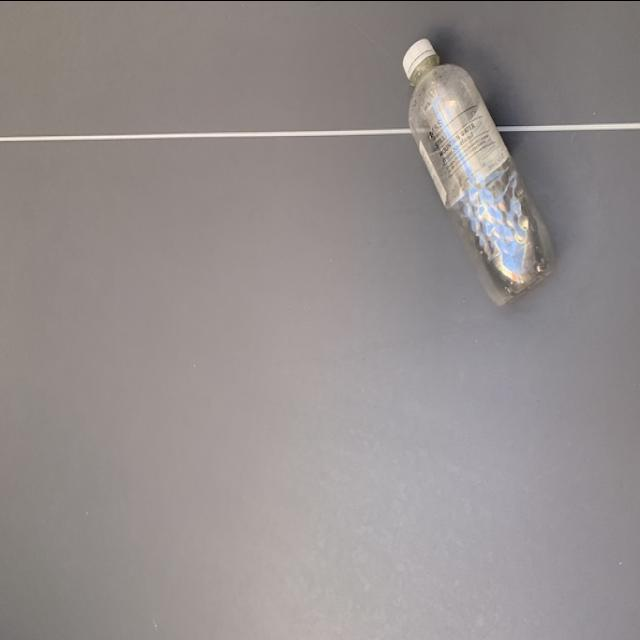PET: (402, 37, 556, 305)
